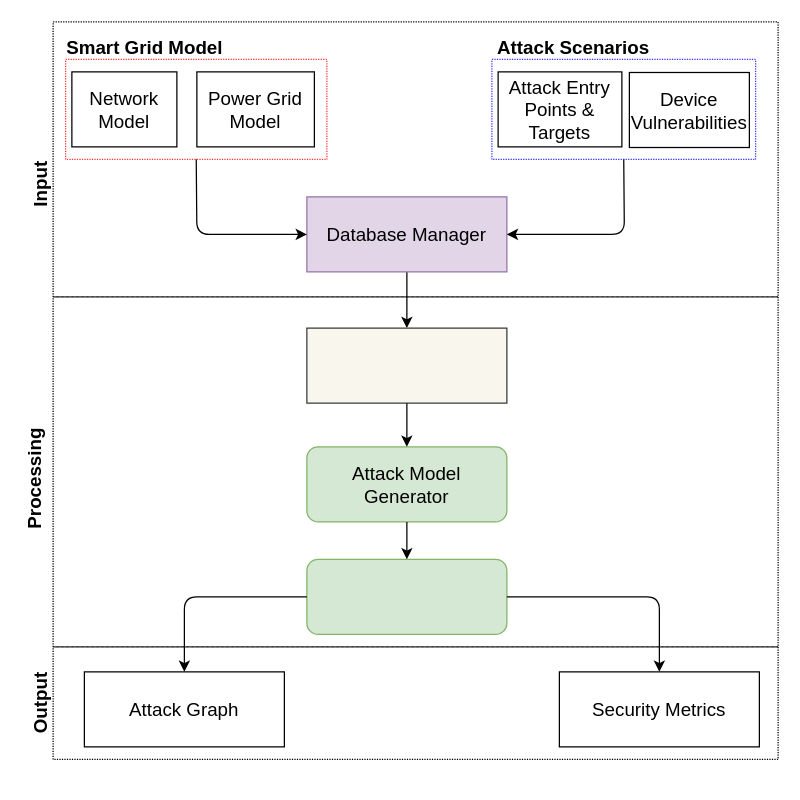
Image size: 800x800. Some labels were removed from this diagram. Each missing label, with the centre of its shape:
Attack Analysis Manager: point 406,365
Attack Model Evaluator: point 406,596
